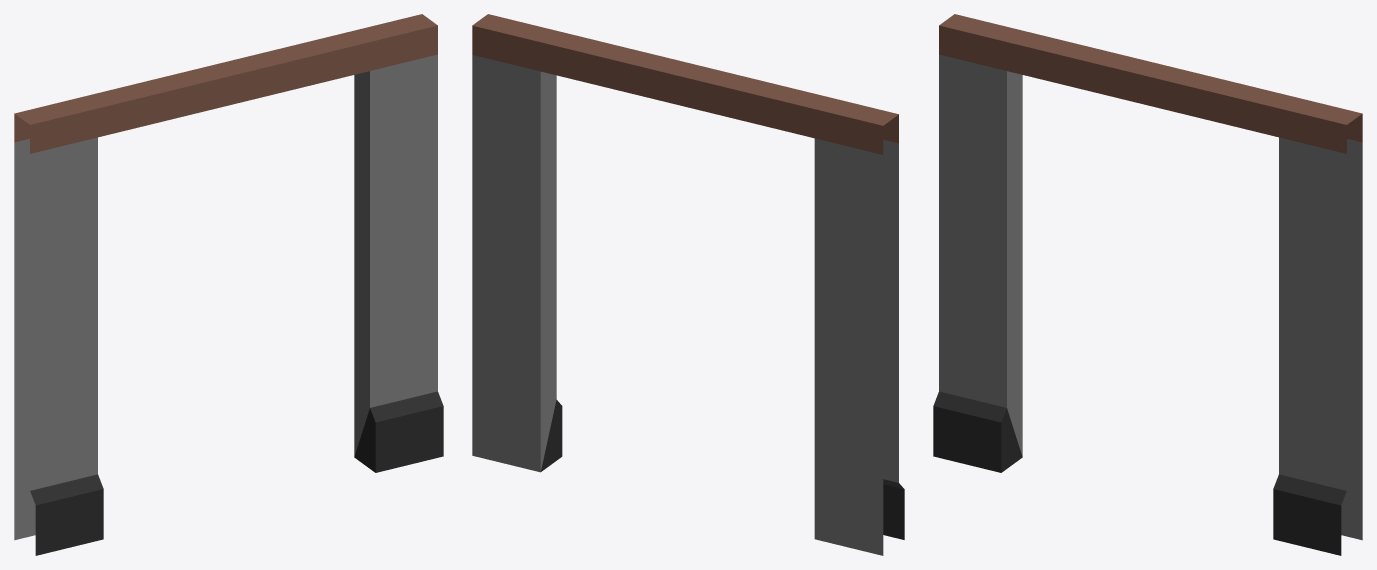
The model's file is Wall1111.fbx.
The picture shows the model from 3 angles, left to right: view 1: azimuth 30°, elevation 25°; view 2: azimuth 150°, elevation 25°; view 3: azimuth 330°, elevation 25°; orthographic projection.
Visible parts, largest first — view 1: Box013; view 2: Box013; view 3: Box013.
Part boxes in pixels (x1=…): Box013: x1=14, y1=14, x2=443, y2=555; Box013: x1=472, y1=14, x2=904, y2=555; Box013: x1=933, y1=14, x2=1362, y2=555.
Size of the model in its own units: 300 by 300 by 27.18.
